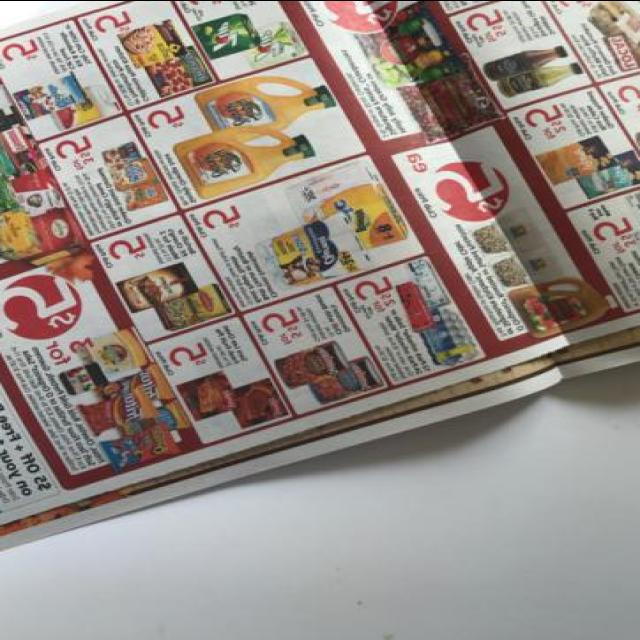kertas: (0, 0, 640, 553)
